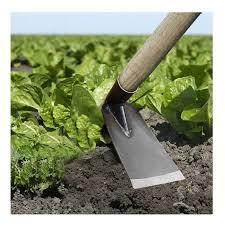HOUE: (100, 6, 218, 204)
